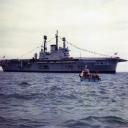Portanaves: (1, 34, 128, 76)
